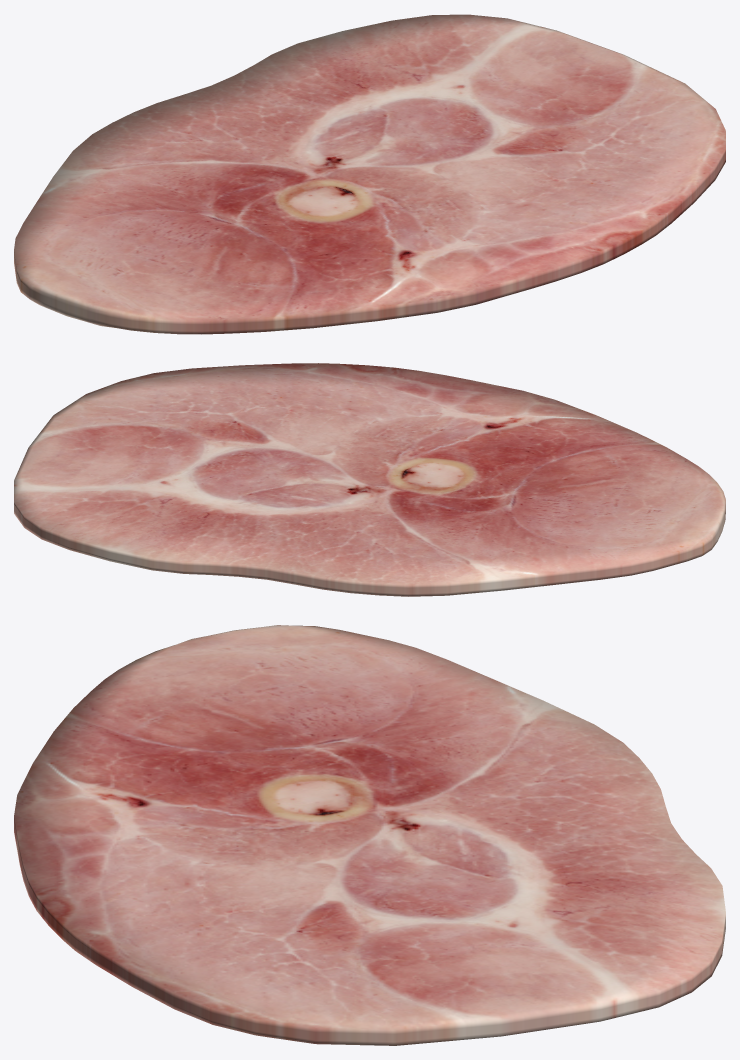
File: ham.fbx
The picture shows the model from 3 angles, top to bottom: view 1: azimuth 30°, elevation 25°; view 2: azimuth 150°, elevation 25°; view 3: azimuth 270°, elevation 25°; orthographic projection. The views are drawn at different scales.
Parts seen in each view (by area): view 1: slice of ham; view 2: slice of ham; view 3: slice of ham.
Part boxes in pixels (<box>): slice of ham: <box>14,14,725,334</box>; slice of ham: <box>14,363,725,596</box>; slice of ham: <box>14,625,725,1045</box>.
Size of the model in its own units: 2.04 by 0.0558 by 1.52.
